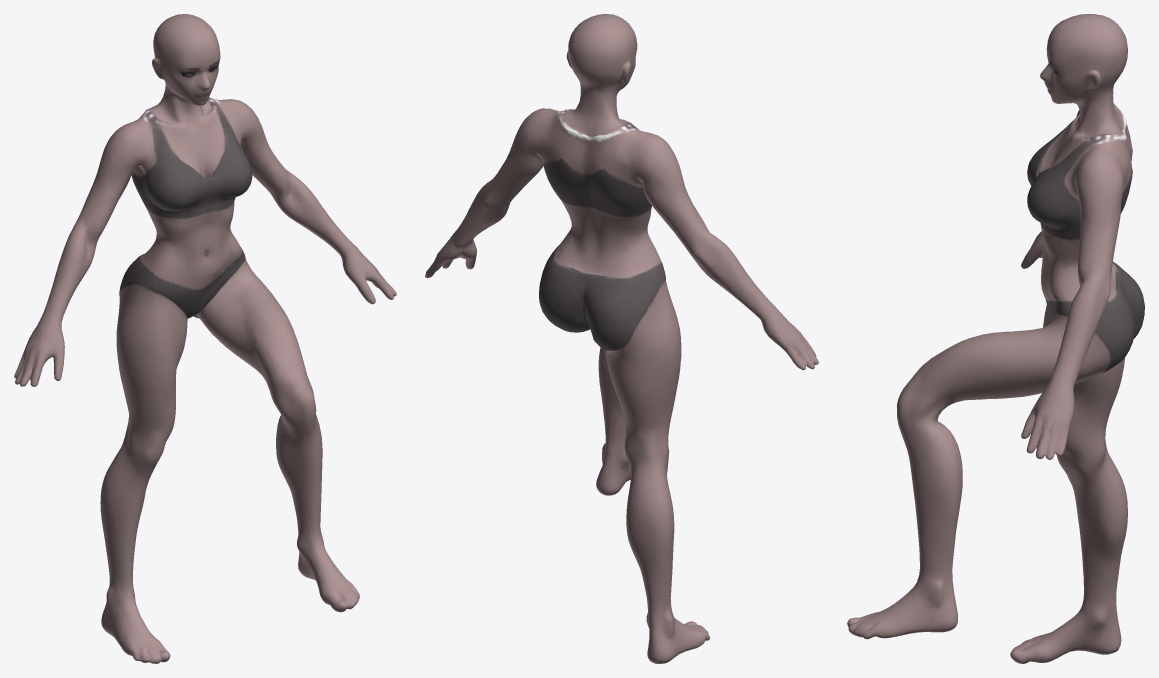
The model's file is 12-ThighR-60-child60-twist0-baseline.glb.
The picture shows the model from 3 angles, left to right: view 1: azimuth 30°, elevation 25°; view 2: azimuth 150°, elevation 25°; view 3: azimuth 270°, elevation 25°; orthographic projection. The views are drawn at different scales.
Visible parts, largest first — view 1: baseline; view 2: baseline; view 3: baseline.
Part boxes in pixels (left/top/right/bottom): baseline: left=14, top=14, right=396, bottom=663; baseline: left=425, top=14, right=818, bottom=663; baseline: left=847, top=14, right=1144, bottom=663.
Size of the model in its own units: 0.6509 by 1 by 0.4011.
1 material, 1 textured.
